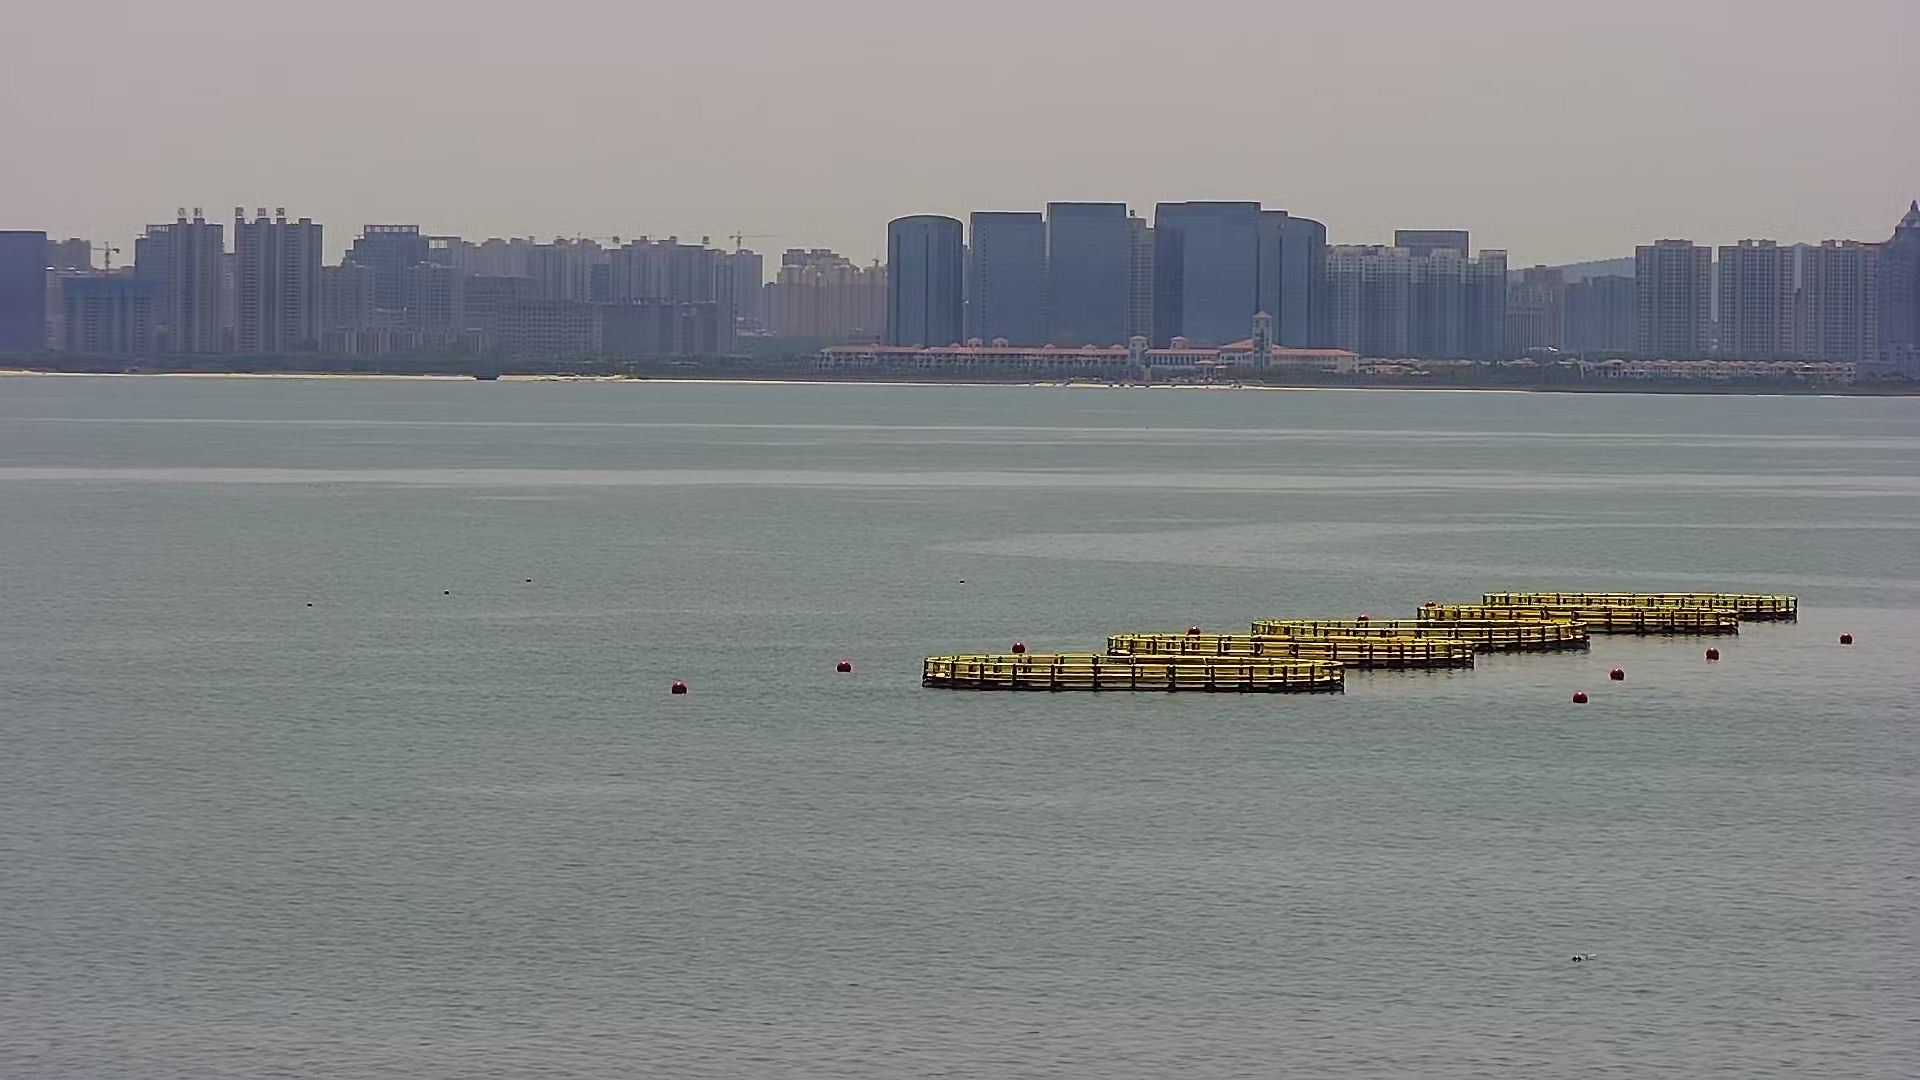ball: (822, 642, 862, 683), (658, 667, 700, 704), (1560, 679, 1600, 713), (1825, 624, 1859, 653), (1697, 640, 1727, 671), (1607, 658, 1629, 691)
platform: (897, 568, 1811, 702)
